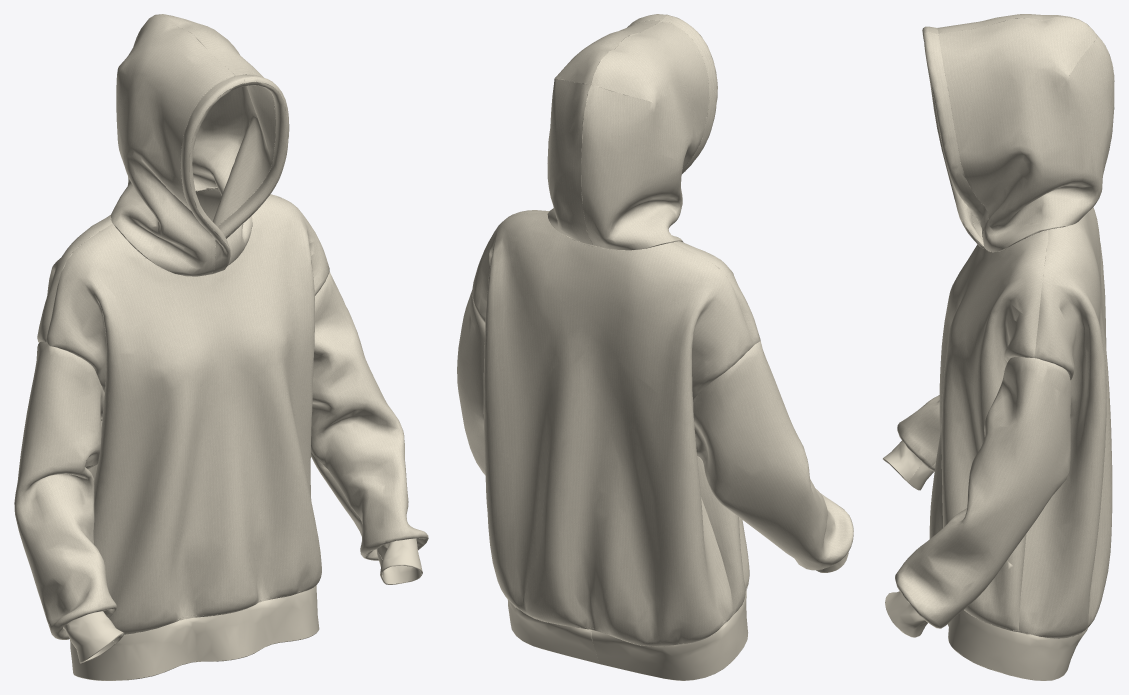
Rendered from PM_hood.glb.
3 views of the same model, side by side, from view 1: azimuth 30°, elevation 25°; view 2: azimuth 150°, elevation 25°; view 3: azimuth 270°, elevation 25° (orthographic). The views are drawn at different scales.
Parts seen in each view (by area): view 1: Cloth; view 2: Cloth; view 3: Cloth.
Boxes of the visible parts, <box> form: Cloth: <box>14,14,428,680</box>; Cloth: <box>457,14,853,680</box>; Cloth: <box>883,14,1114,680</box>.
Bounding box in the file's own units: 0.6169 × 1 × 0.3402.
Materials: 1 (1 with a texture image).
